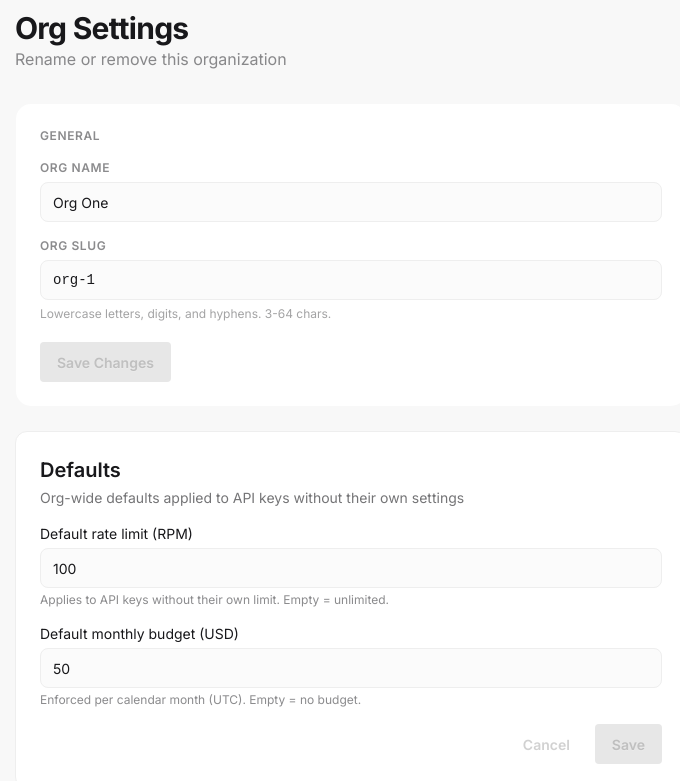
Test: OrgSettings — Defaults section › Cancel button resets the inputs and disables Save
Replace the text in the number field labelled "Default rate limit (RPM)" with "200" at (351, 568), box [40,548,662,588]
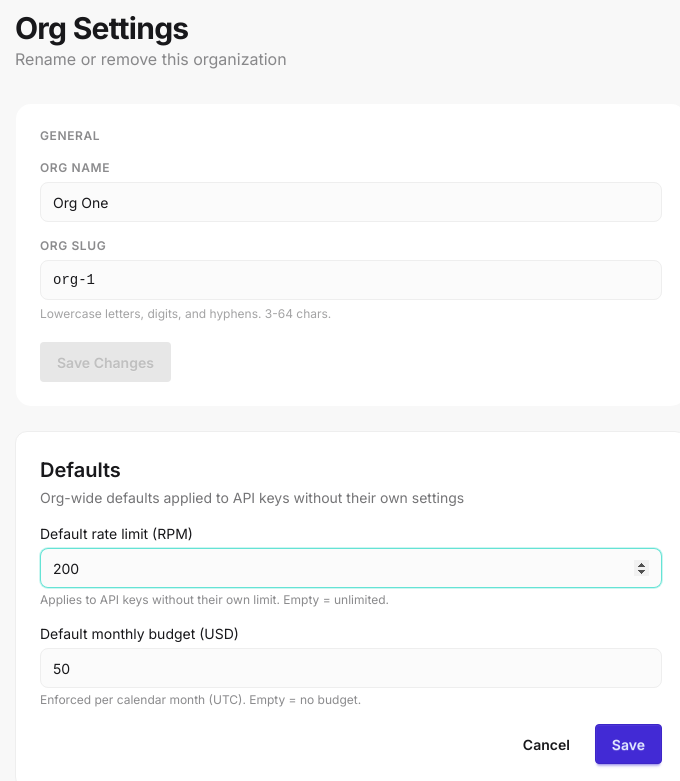
Expected: the button "Save" is enabled, [595,724,662,764]
Click the button "Cancel" at (546, 744), box [506,724,587,764]
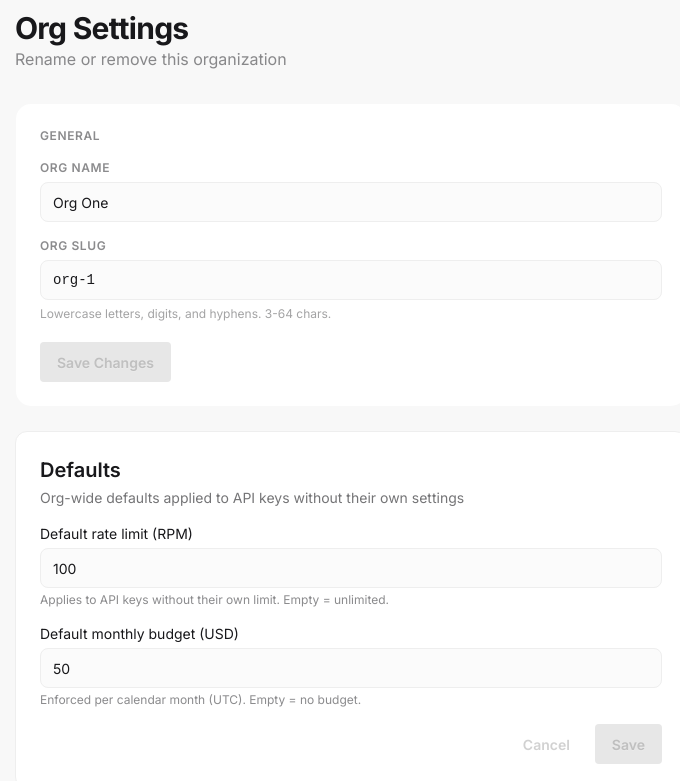
Expected: the number field labelled "Default rate limit (RPM)" holds "100", [40,548,662,588]
Expected: the button "Save" is disabled, [595,724,662,764]
